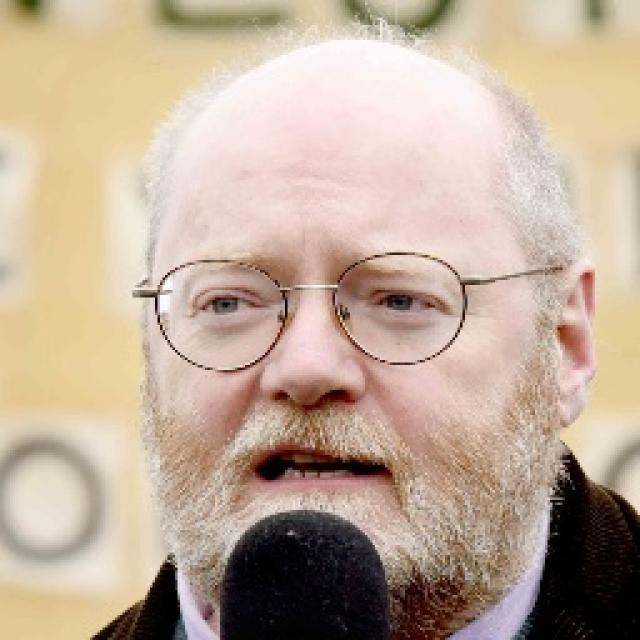earlobe: (551, 263, 599, 428)
